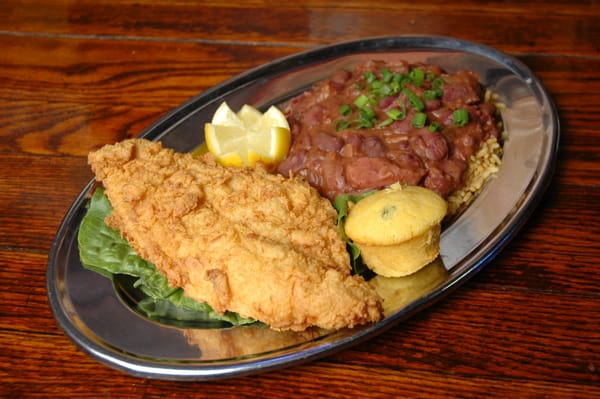sushi: (9, 6, 569, 386)
